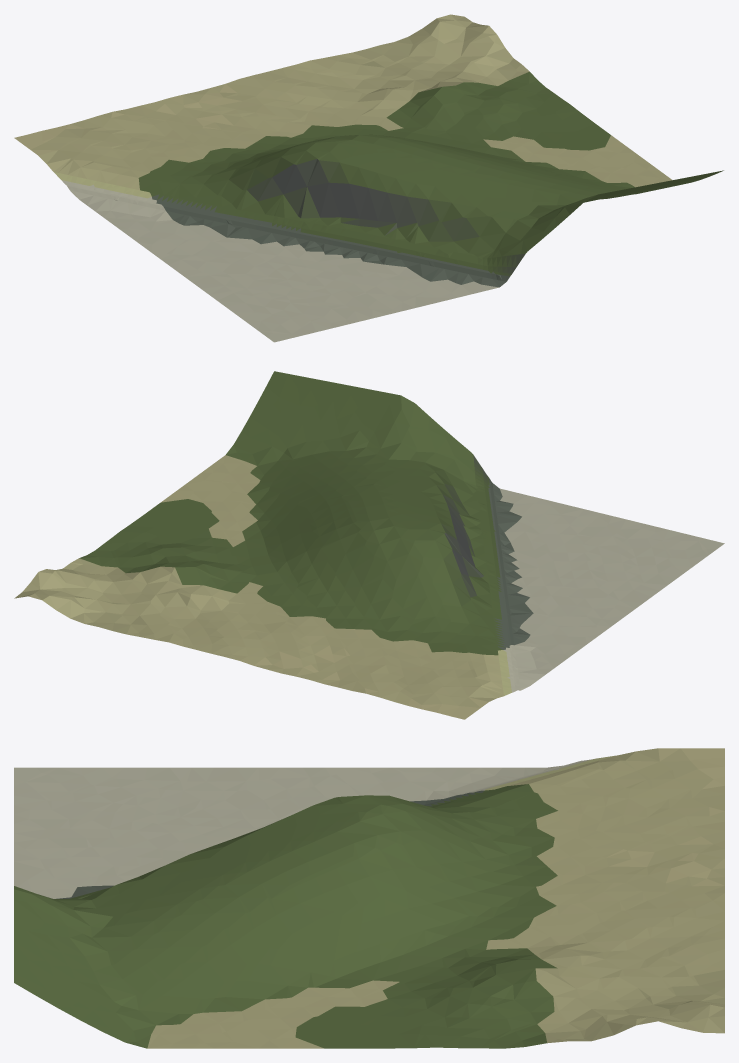
The model's file is Ground_-5_-6.glb.
3 renders of one model, top to bottom at view 1: azimuth 30°, elevation 25°; view 2: azimuth 150°, elevation 25°; view 3: azimuth 270°, elevation 25°, orthographic. The views are drawn at different scales.
Visible parts, largest first — view 1: Ground_-5_-6; view 2: Ground_-5_-6; view 3: Ground_-5_-6.
Boxes of the visible parts, x1,y1,x2,y2 form: Ground_-5_-6: (14, 14, 723, 342); Ground_-5_-6: (14, 371, 724, 719); Ground_-5_-6: (14, 748, 724, 1048).
Size of the model in its own units: 768 by 112 by 768.
